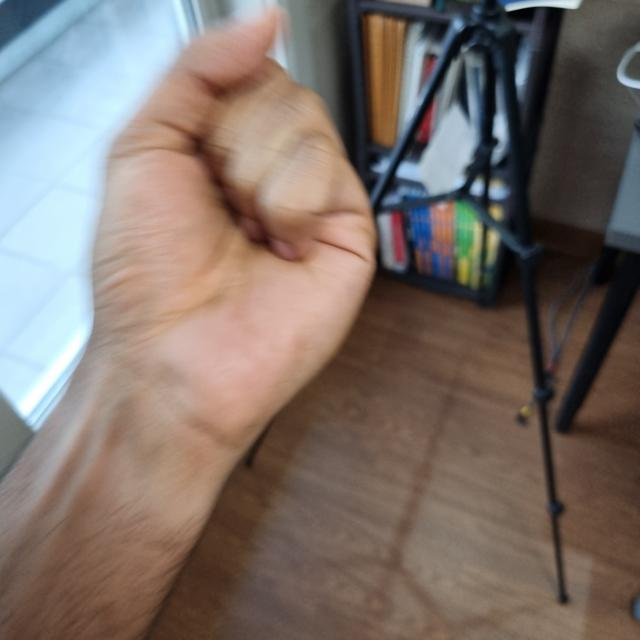Rock: (81, 2, 378, 477)
